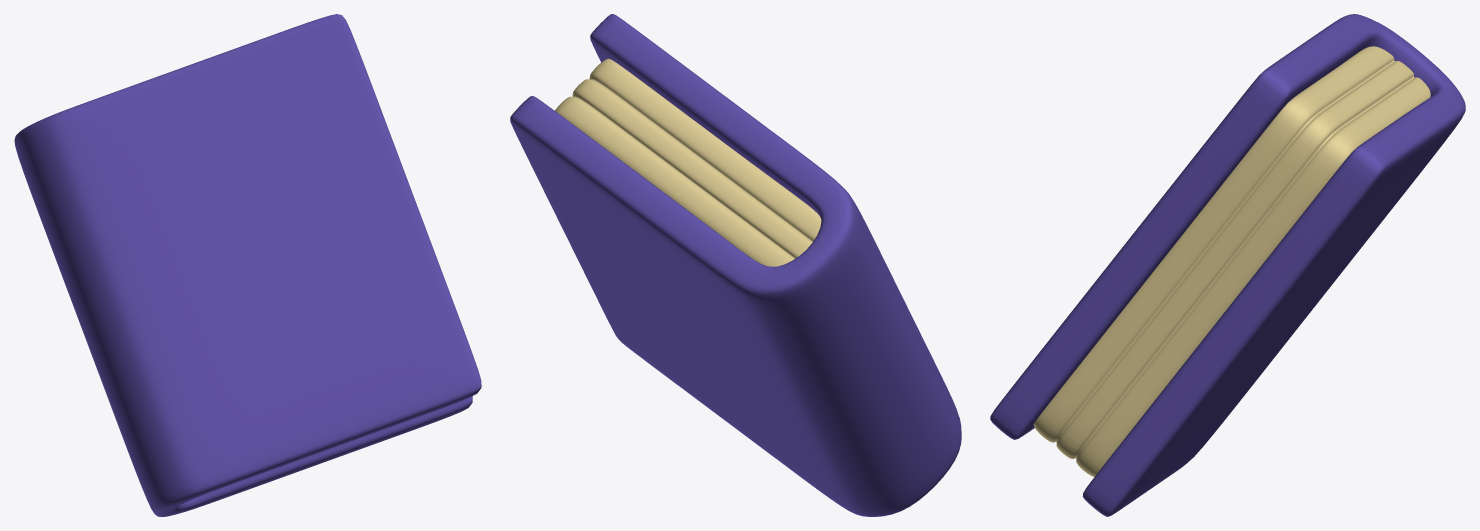
The model's file is PROP_01.glb.
The picture shows the model from 3 angles, left to right: view 1: azimuth 30°, elevation 25°; view 2: azimuth 150°, elevation 25°; view 3: azimuth 270°, elevation 25°; orthographic projection. The views are drawn at different scales.
Visible parts, largest first — view 1: Cube.008; view 2: Cube.008; view 3: Cube.008.
Boxes of the visible parts, left/top/right/bottom form: Cube.008: left=14, top=14, right=481, bottom=516; Cube.008: left=510, top=14, right=961, bottom=516; Cube.008: left=990, top=14, right=1465, bottom=516.
Size of the model in its own units: 0.4241 by 0.5272 by 0.463.
